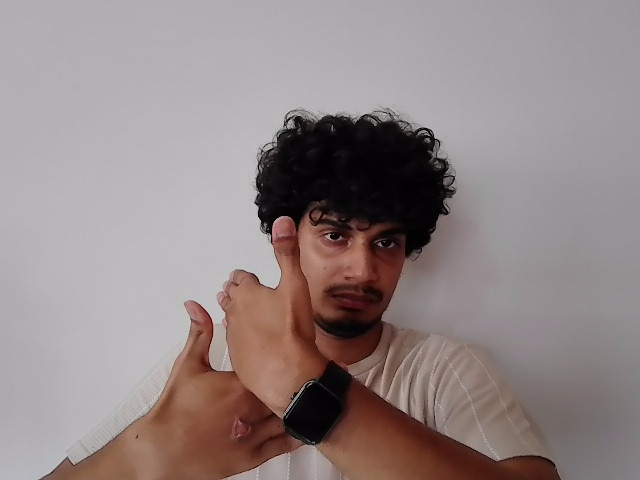work: (154, 215, 353, 463)
